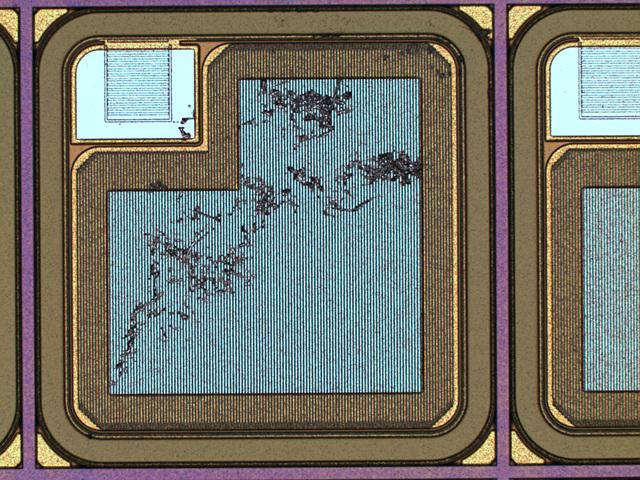SCRATCH: (107, 73, 431, 391)
